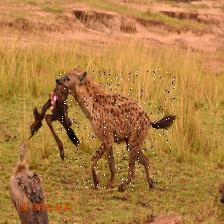hyena: (56, 69, 174, 190)
